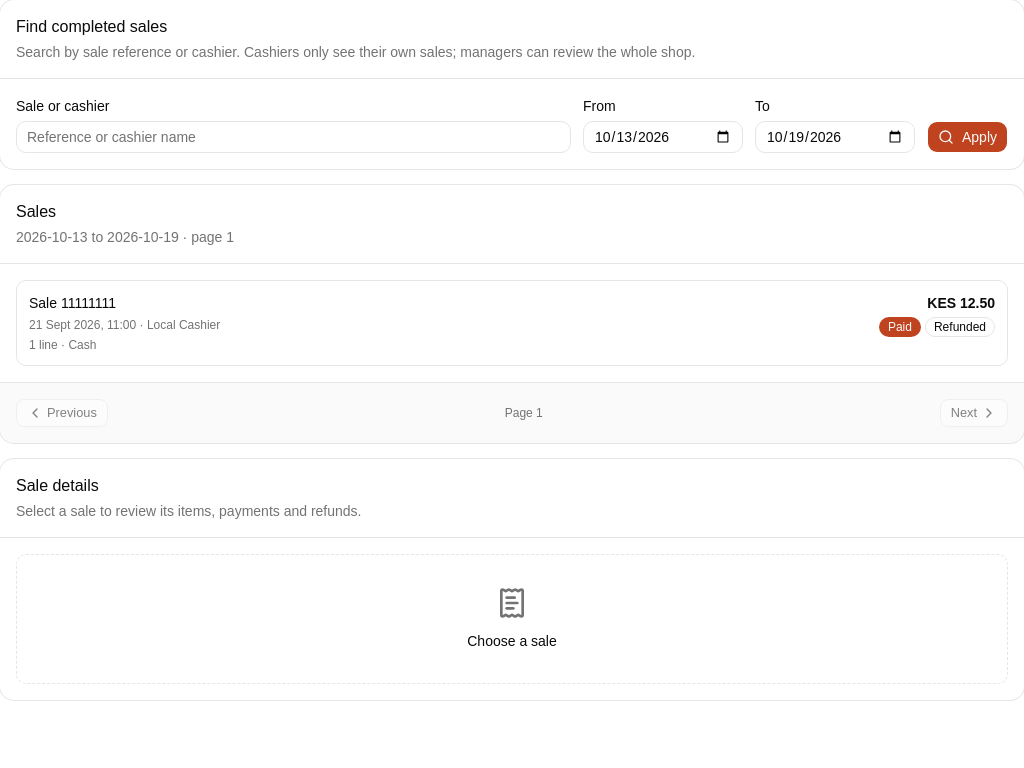
Test case: shows payment and refund status and drills into a sale
Check: the text "Sale 11111111" is shown, box [29, 295, 116, 311]
Check: the icon "Paid" is shown, box [879, 317, 921, 337]
What coordinates should you click on to do the following:
click the button "Sale 11111111"
I would click on:
 (45, 303)
Its box is [16, 280, 1008, 366].
(page scrolled)
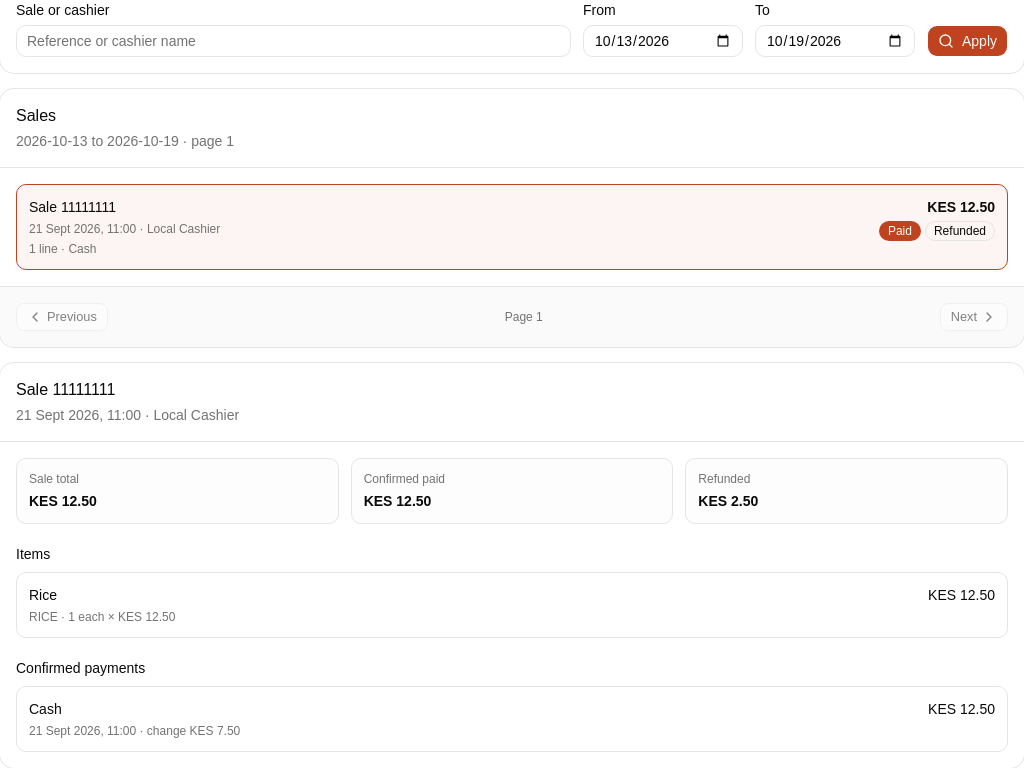
Check: the text "Rice" is shown, box [29, 587, 57, 603]
Check: the text "21 Sept 2026, 11:00 · change KES 7.50" is shown, box [29, 723, 240, 739]
